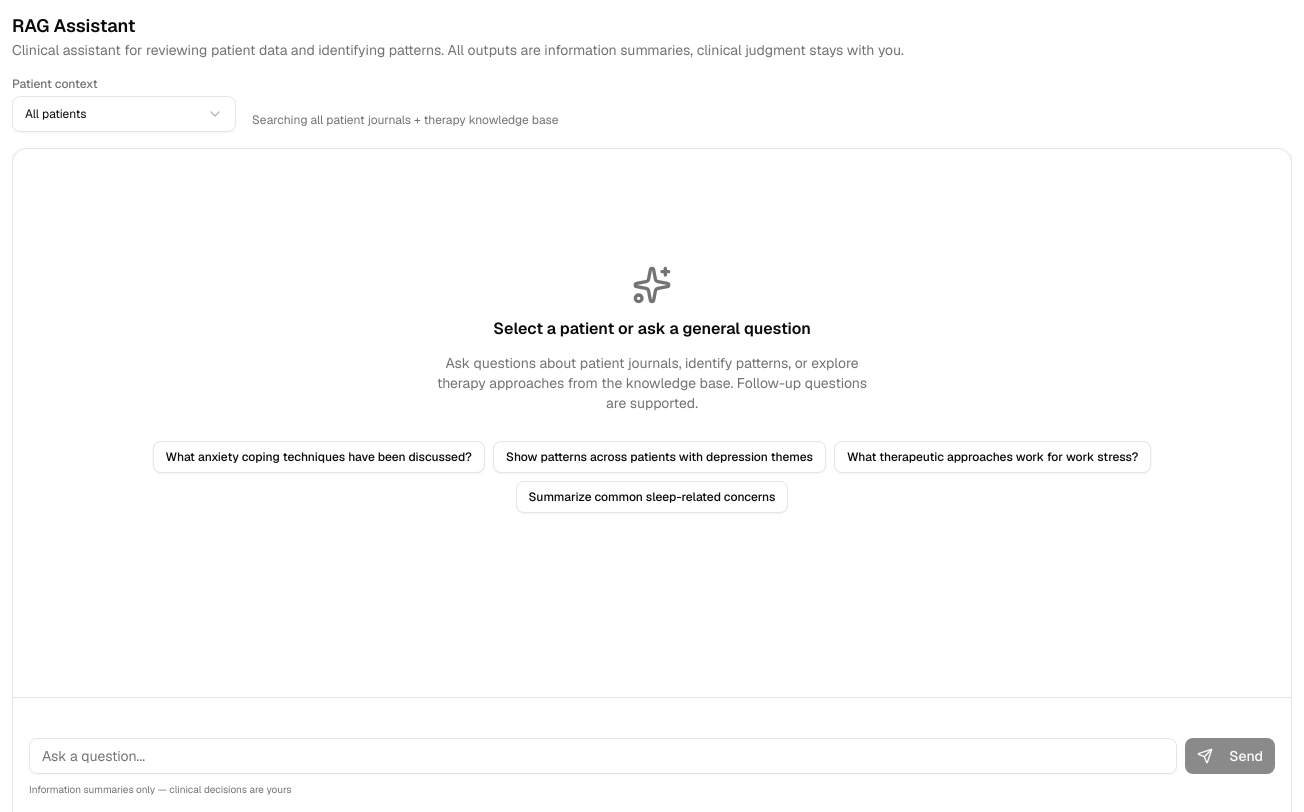
Test: RAG Assistant page › sends a message and displays response
This screenshot has width=1304, height=812.
In the field with placeholder "Ask a question...": [603, 756] box [29,738,1177,774], type "test query"
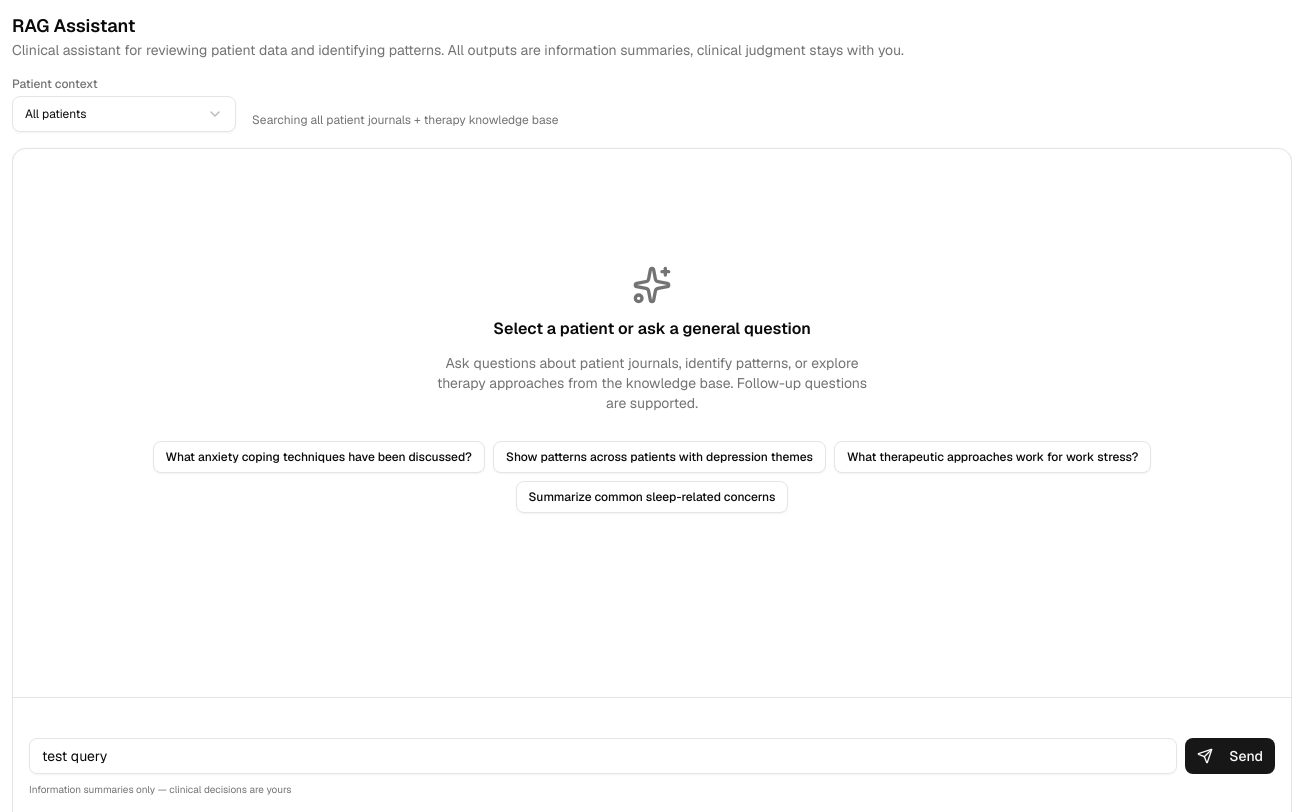
Click the button "Send": [1230, 756] box [1185,738,1275,774]
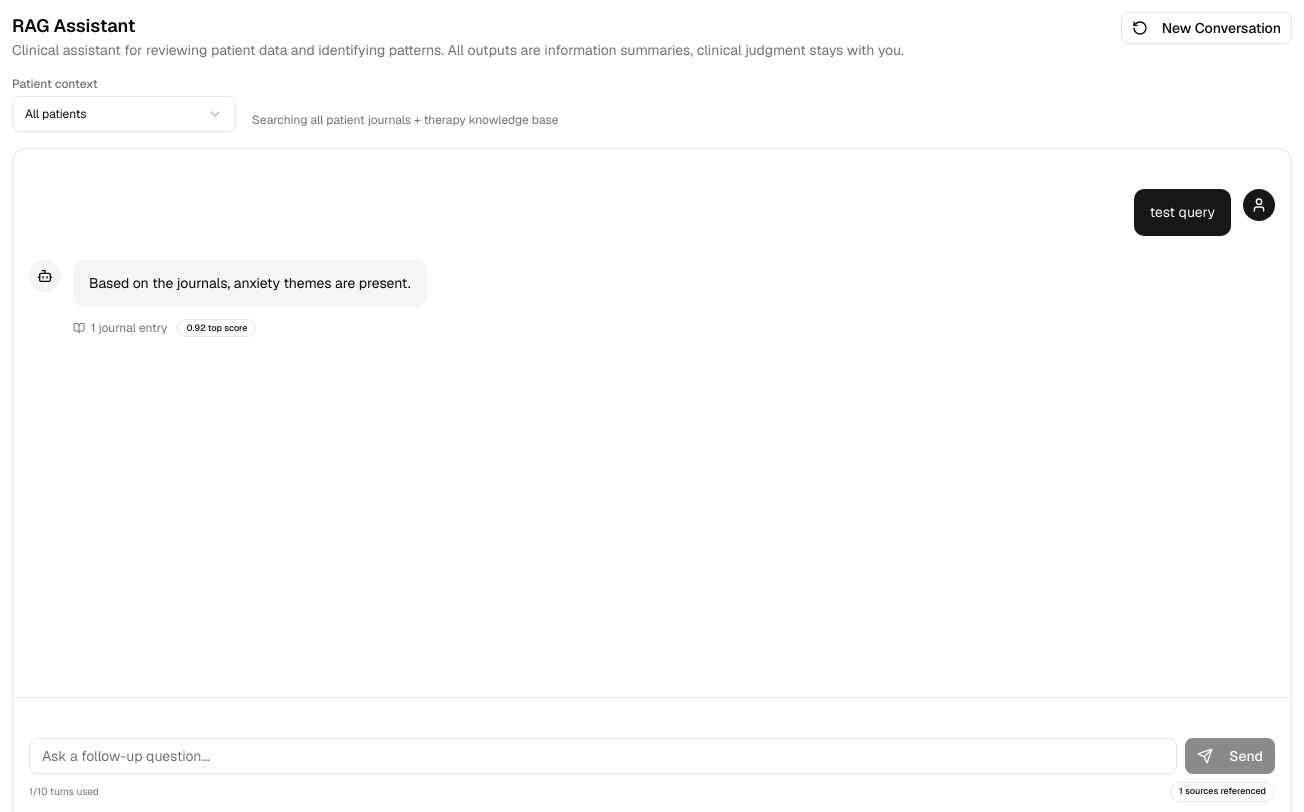
Now the text "test query" is shown, box [1150,201,1215,224]
Now the text "Based on the journals, anxiety themes are present." is shown, box [89,272,410,295]
